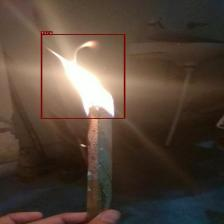fire: (41, 34, 125, 119)
